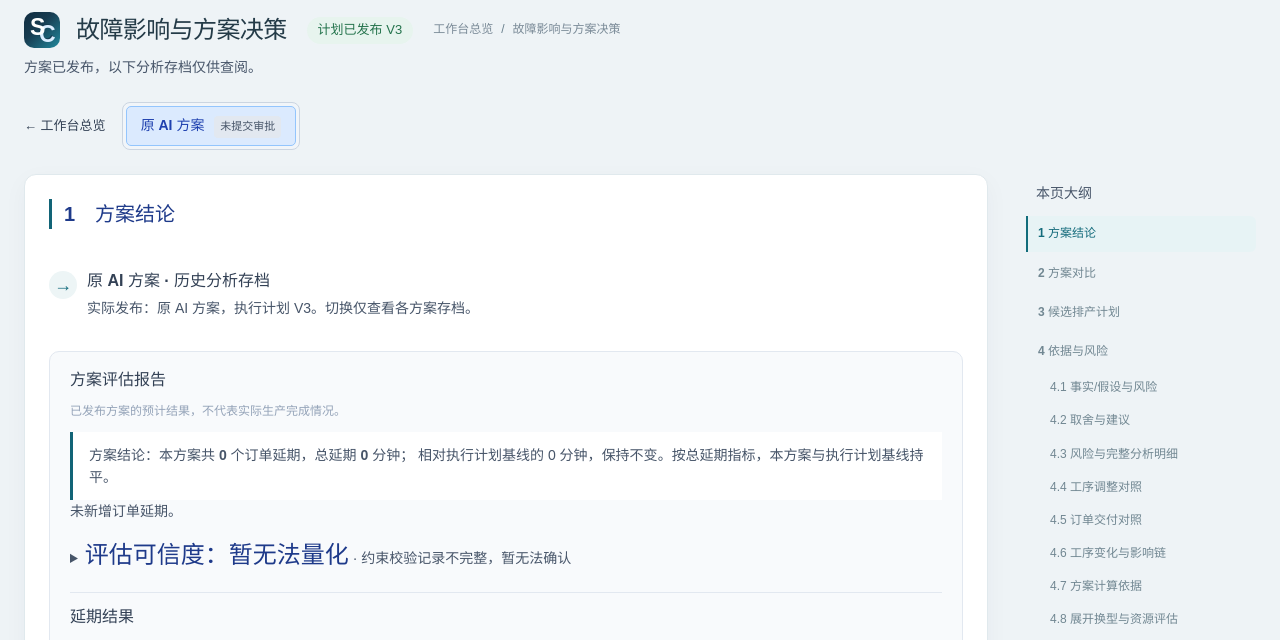
Schedule Copilot workflow › shares published card layout and keeps each fault publication metrics and permissions separate
The width and height of the screenshot is (1280, 640).
Expected: the heading "S C 故障影响与方案决策" is shown, [24,12,287,48]
Click the button "← 工作台总览".
click(65, 126)  # box [24,112,106,141]
(page scrolled)
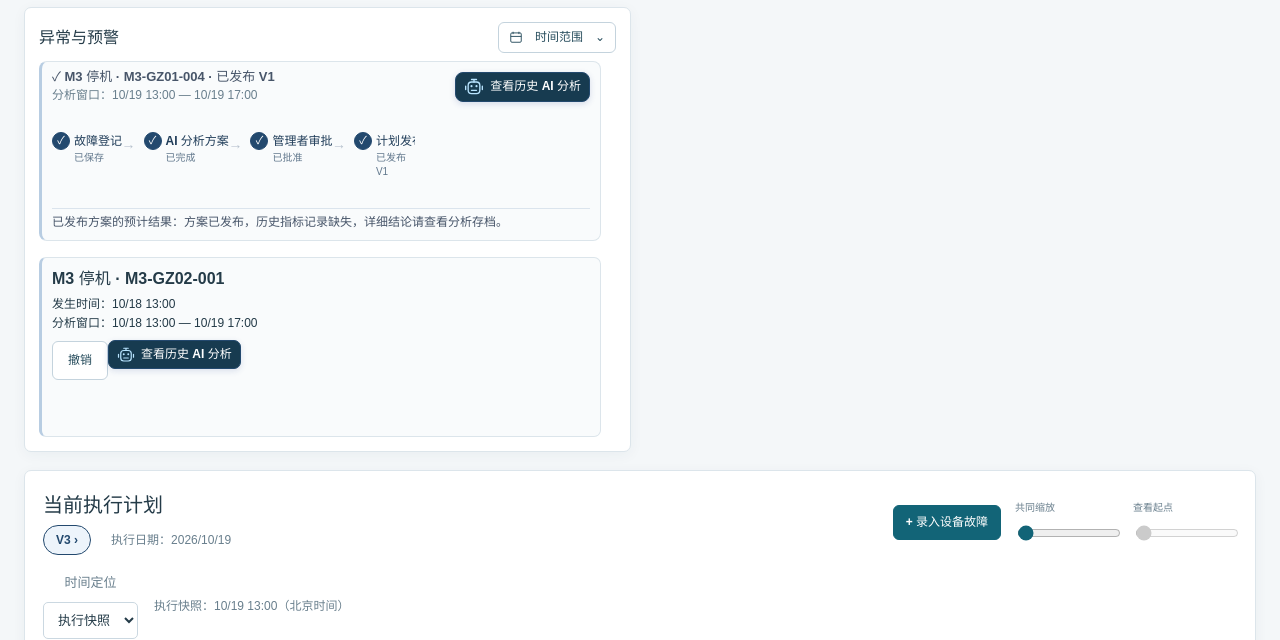
Expected: the number of list items with class "is-complete" is 4, [52,132,136,165]; [144,132,242,165]; [250,132,346,165]; [354,132,415,179]
Expected: the text "方案已发布，历史指标记录缺失，详细结论请查看分析存档。" is shown, [184,215,508,229]
Expected: the text "总延期 0" is gone
